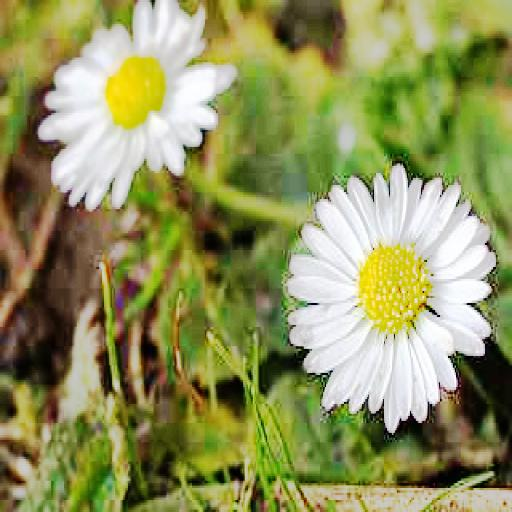daisy: (294, 166, 496, 425), (50, 2, 228, 204)
